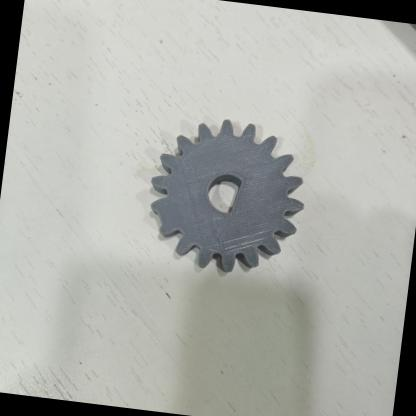defect: (140, 188, 188, 252), (213, 172, 262, 223)
gear: (122, 100, 324, 296)
